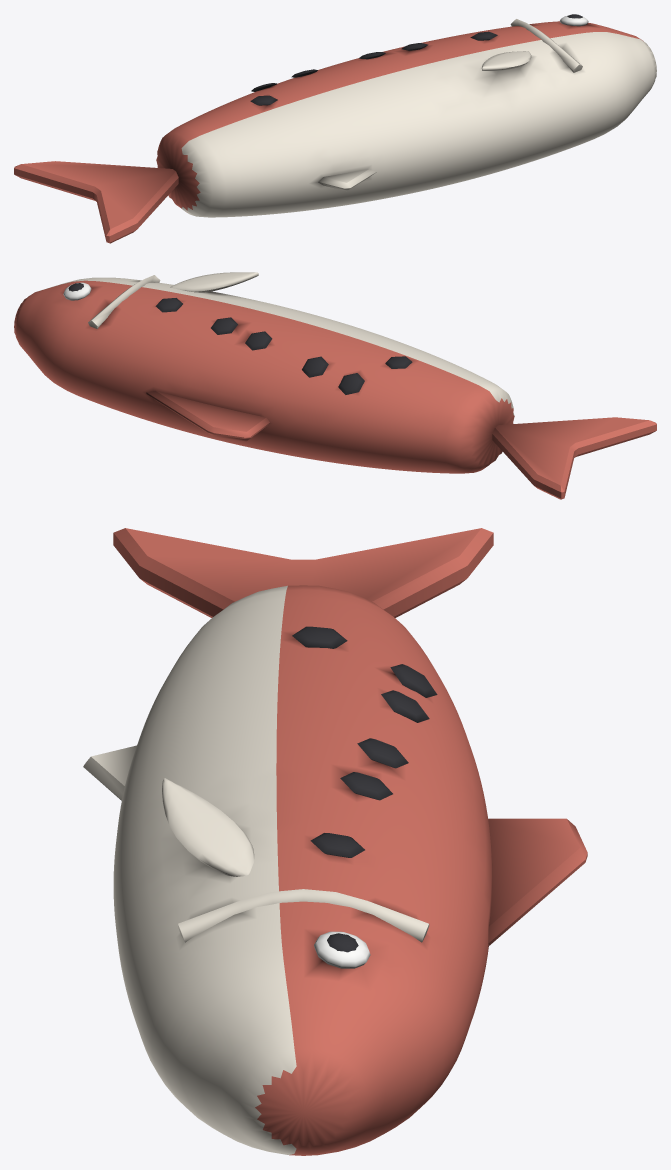
Rendered from food_brookfish.glb.
The picture shows the model from 3 angles, top to bottom: view 1: azimuth 30°, elevation 25°; view 2: azimuth 150°, elevation 25°; view 3: azimuth 270°, elevation 25°; orthographic projection. The views are drawn at different scales.
Visible parts, largest first — view 1: PART; view 2: PART; view 3: PART.
Part boxes in pixels (left/top/right/bottom): PART: left=14, top=14, right=656, bottom=243; PART: left=14, top=272, right=656, bottom=499; PART: left=83, top=528, right=587, bottom=1155.
Size of the model in its own units: 0.1554 by 0.0321 by 0.0575.
